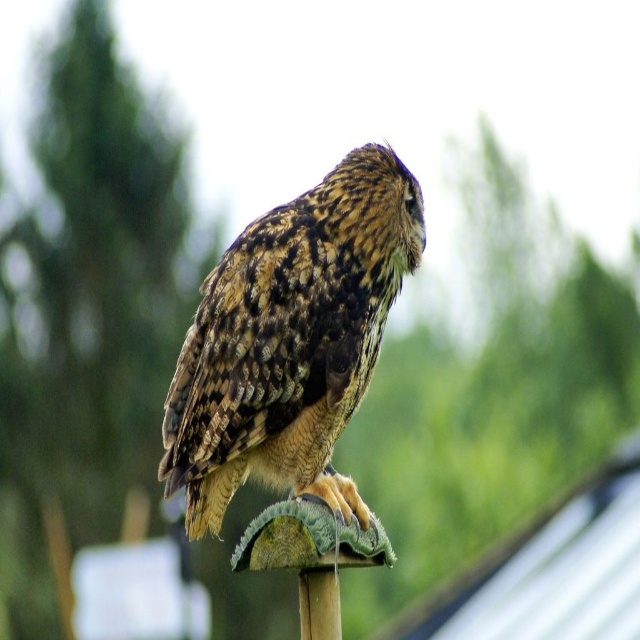Owl: (158, 137, 427, 549)
